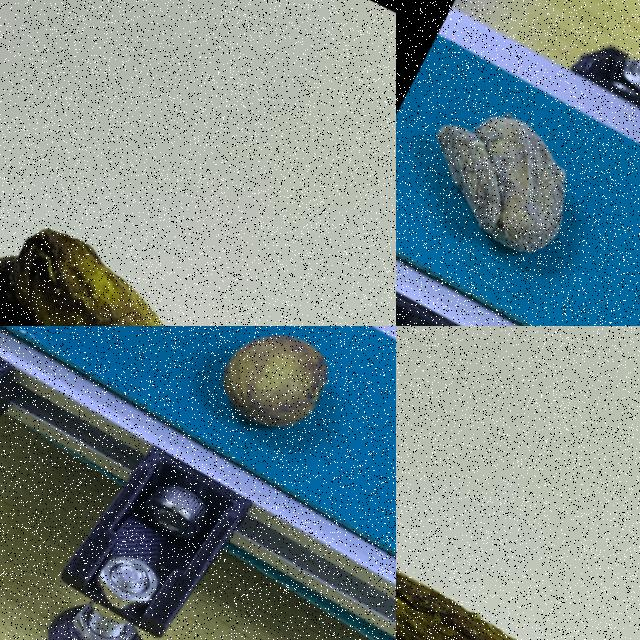Agglomerated_cocoabeans: (0, 77, 317, 325), (396, 52, 639, 325), (396, 404, 639, 639)
Fine_cocoabeans: (126, 326, 395, 557)
